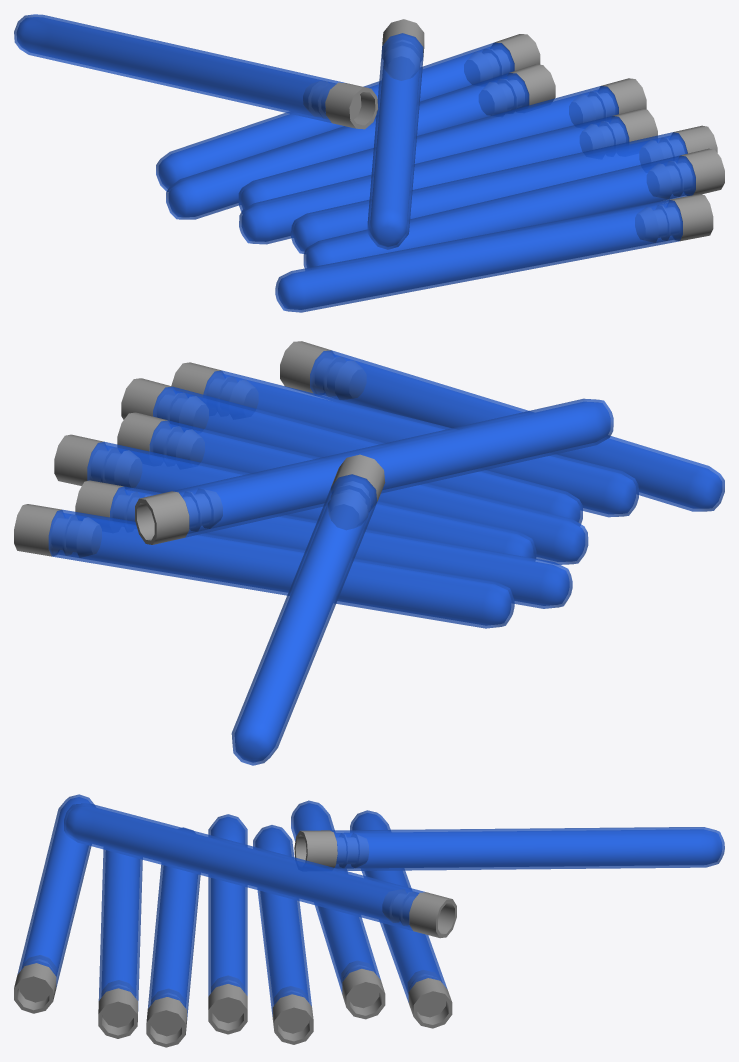
Rendered from SM_Layed_Test_Tube6_LOD0.FBX.
3 views of the same model, one above another, from view 1: azimuth 30°, elevation 25°; view 2: azimuth 150°, elevation 25°; view 3: azimuth 270°, elevation 25° (orthographic). The views are drawn at different scales.
Visible parts, largest first — view 1: SM_Empty_Laying_Test_Tube06; view 2: SM_Empty_Laying_Test_Tube06; view 3: SM_Empty_Laying_Test_Tube06.
Part boxes in pixels (x1,y1,x2,y2): SM_Empty_Laying_Test_Tube06: [14, 14, 724, 312]; SM_Empty_Laying_Test_Tube06: [14, 341, 724, 765]; SM_Empty_Laying_Test_Tube06: [14, 794, 724, 1047].
Bounding box in the file's own units: 0.2027 × 0.0374 × 0.2748.
